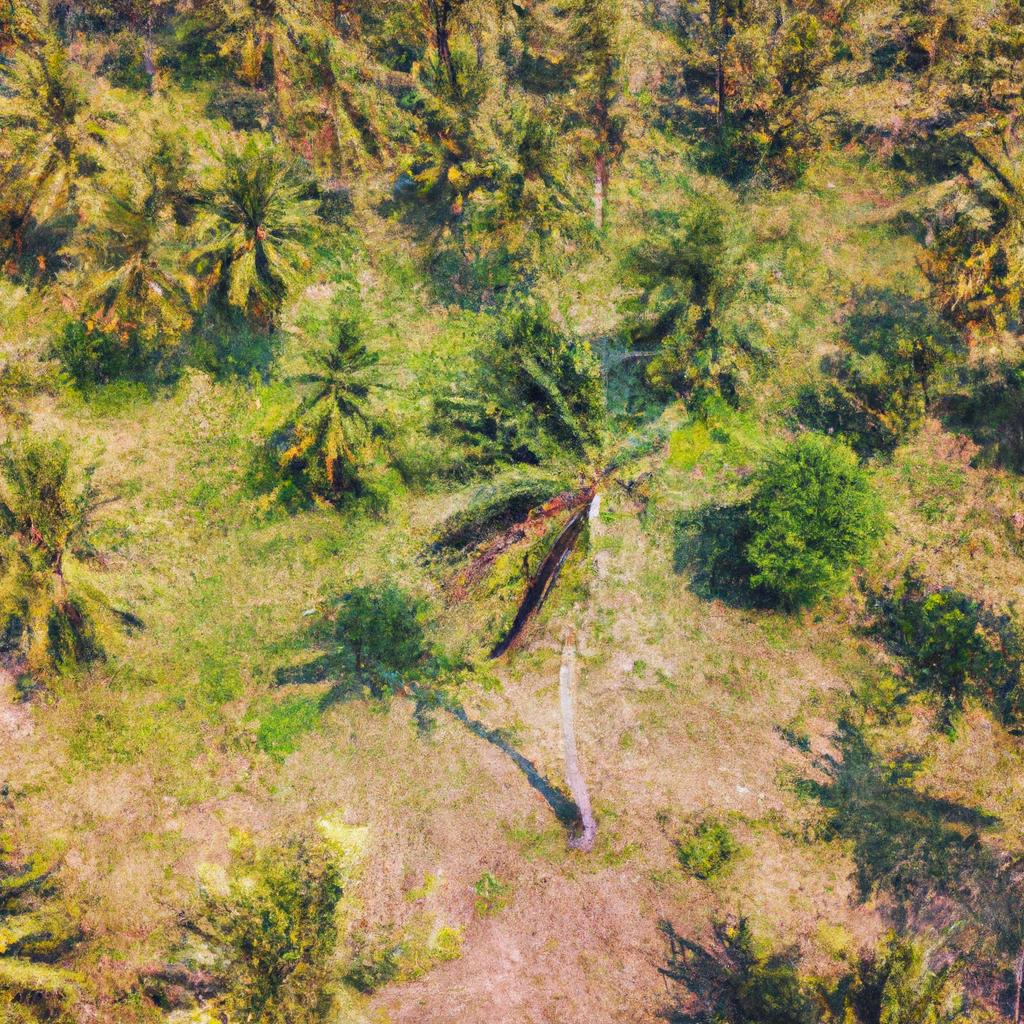coconut_tree: (430, 310, 781, 685), (178, 132, 354, 307)
